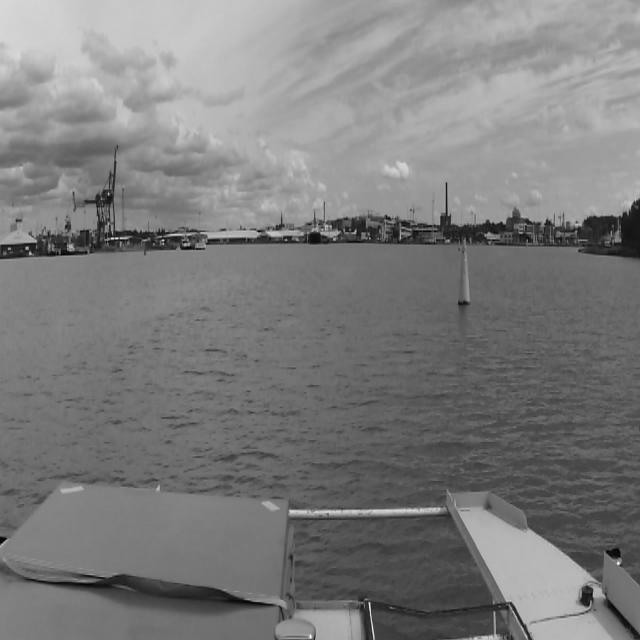buoy: (460, 243, 471, 305)
ship: (178, 236, 208, 252), (309, 209, 321, 243)
